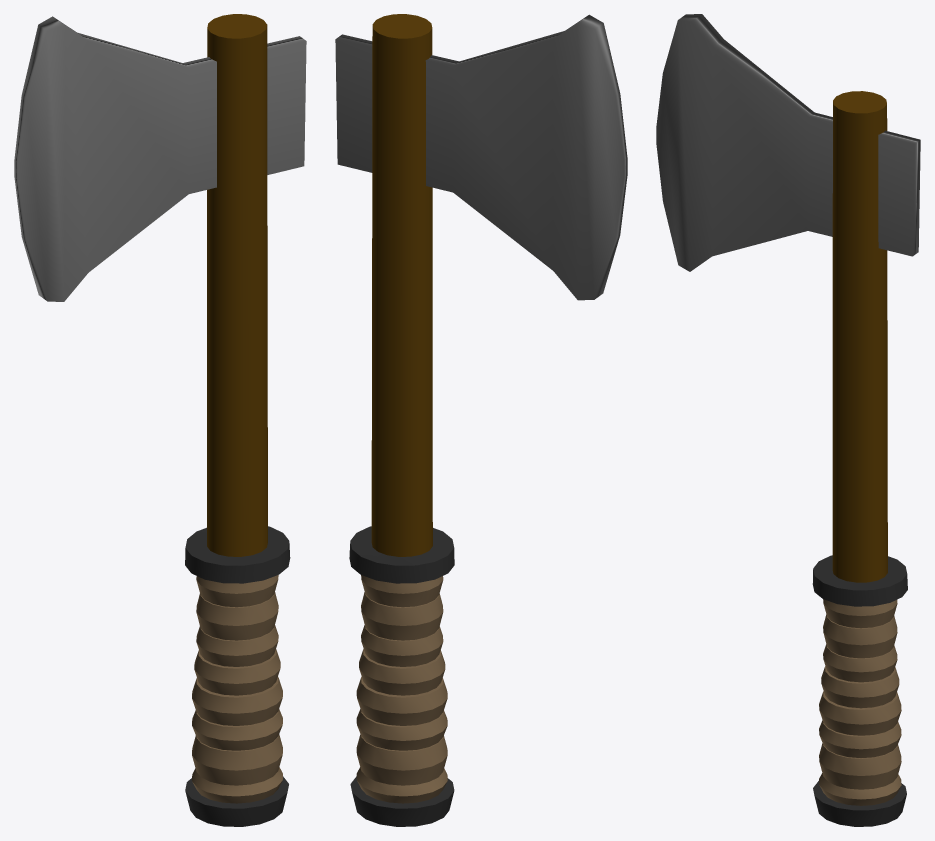
File: axe.fbx
3 renders of one model, left to right at view 1: azimuth 30°, elevation 25°; view 2: azimuth 150°, elevation 25°; view 3: azimuth 330°, elevation 25°, orthographic. The views are drawn at different scales.
Parts seen in each view (by area): view 1: Cube.001; view 2: Cube.001; view 3: Cube.001.
Boxes of the visible parts, left/top/right/bottom form: Cube.001: left=14, top=14, right=306, bottom=826; Cube.001: left=335, top=14, right=627, bottom=826; Cube.001: left=656, top=14, right=920, bottom=826.
Bounding box in the file's own units: 155 × 430 × 48.11.
